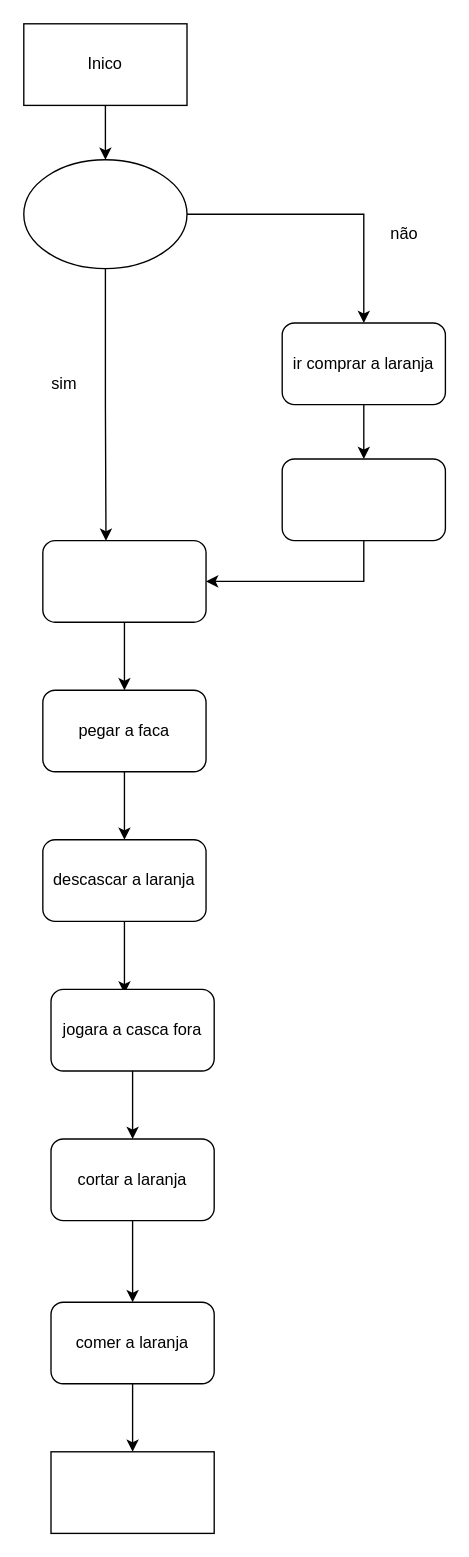
The diagram is 469 pixels wide and 1557 high, and some of its shapes have lost their labels. The centre of each missing label's shape, as x and y in pixels:
chegar em casa: (x=363, y=499)
fim: (x=132, y=1491)
pegar a laranja: (x=123, y=580)
tem a laranja ?: (x=104, y=213)
